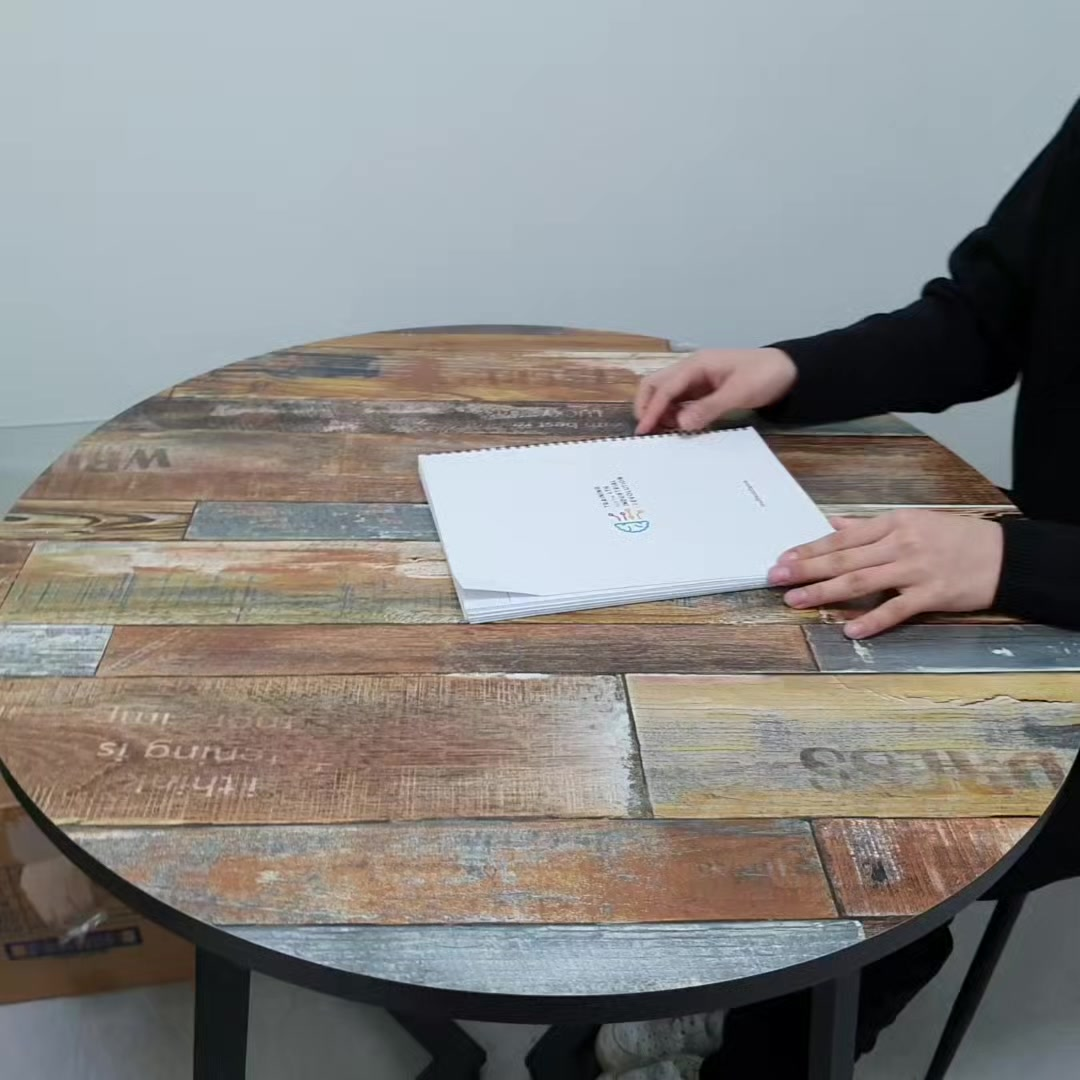book: (416, 431, 864, 639)
